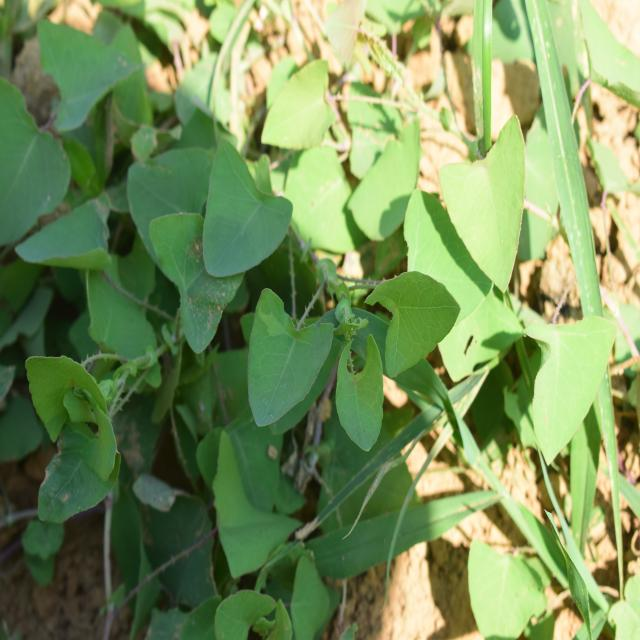Asiatic_Smartweed: (185, 152, 448, 436), (20, 144, 194, 496)
